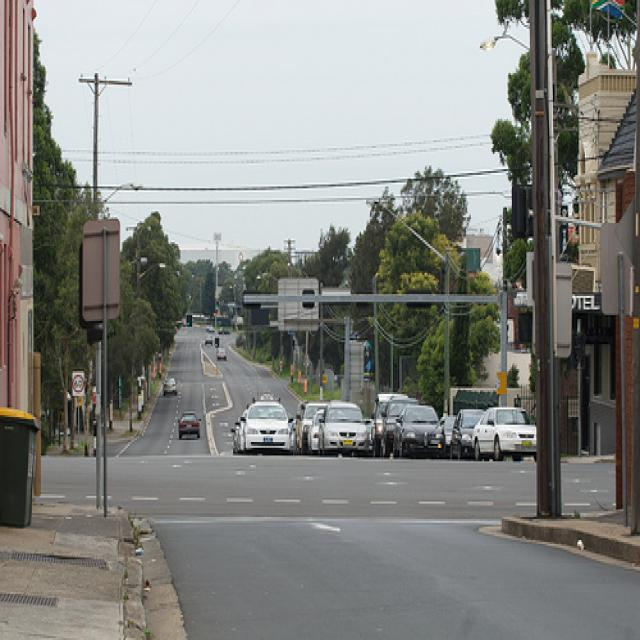Vehicle: (472, 407, 537, 462), (317, 399, 368, 460), (390, 402, 444, 459), (241, 400, 293, 450), (294, 402, 329, 456), (450, 409, 485, 461), (308, 409, 326, 455), (178, 411, 202, 440), (239, 404, 250, 451), (163, 380, 179, 397), (215, 346, 227, 362), (202, 335, 214, 347)
